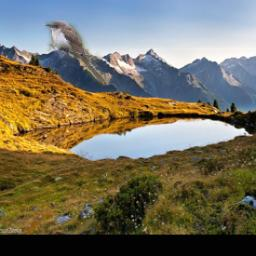Cuckoo: (45, 20, 108, 86)
